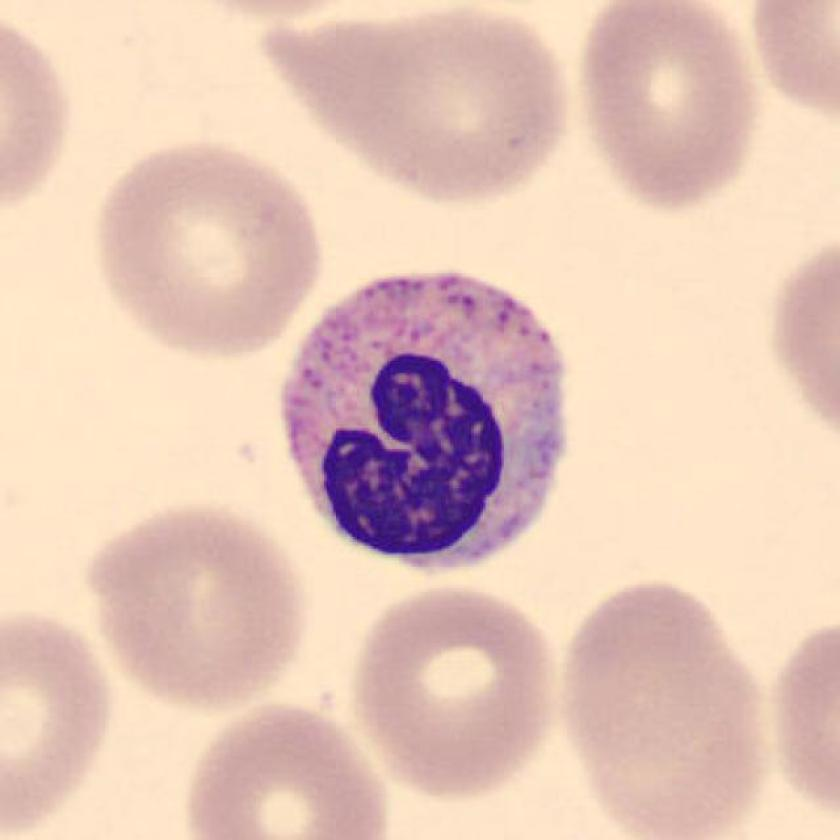neutrophil: (281, 274, 564, 575)
